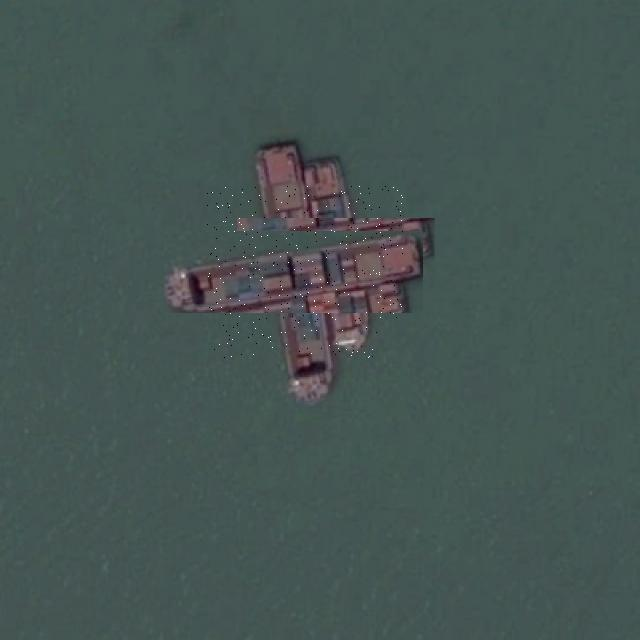boat: (207, 187, 379, 358), (269, 186, 403, 321)
